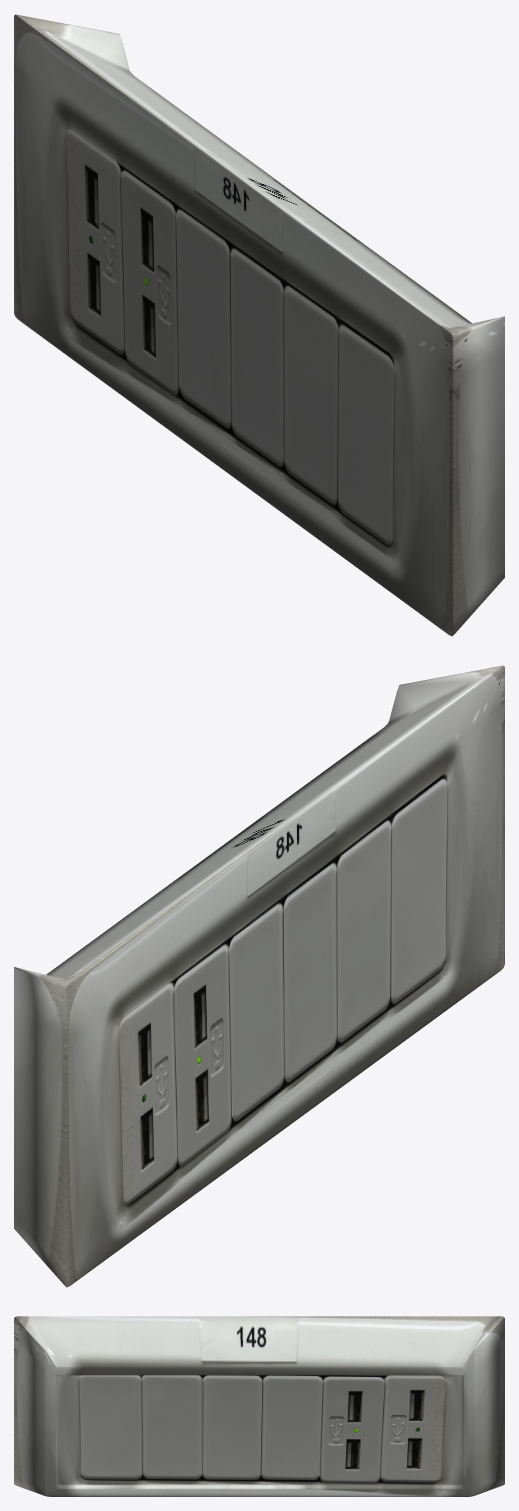
File: oculus plug.fbx
The picture shows the model from 3 angles, top to bottom: view 1: azimuth 30°, elevation 25°; view 2: azimuth 150°, elevation 25°; view 3: azimuth 270°, elevation 25°; orthographic projection. The views are drawn at different scales.
Visible parts, largest first — view 1: Cube.022; view 2: Cube.022; view 3: Cube.022.
Boxes of the visible parts, x1,y1,x2,y2 form: Cube.022: [14, 14, 504, 636]; Cube.022: [14, 665, 504, 1287]; Cube.022: [14, 1316, 504, 1496].
Bounding box in the file's own units: 1.43 × 5.18 × 13.57.
